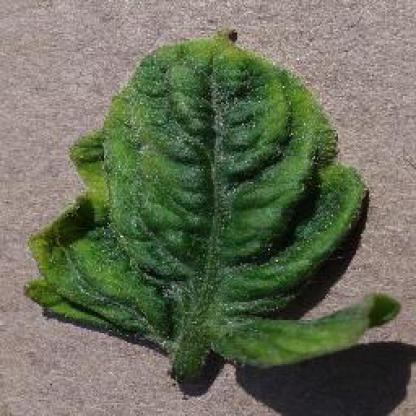bad leaf: (15, 27, 413, 402)
